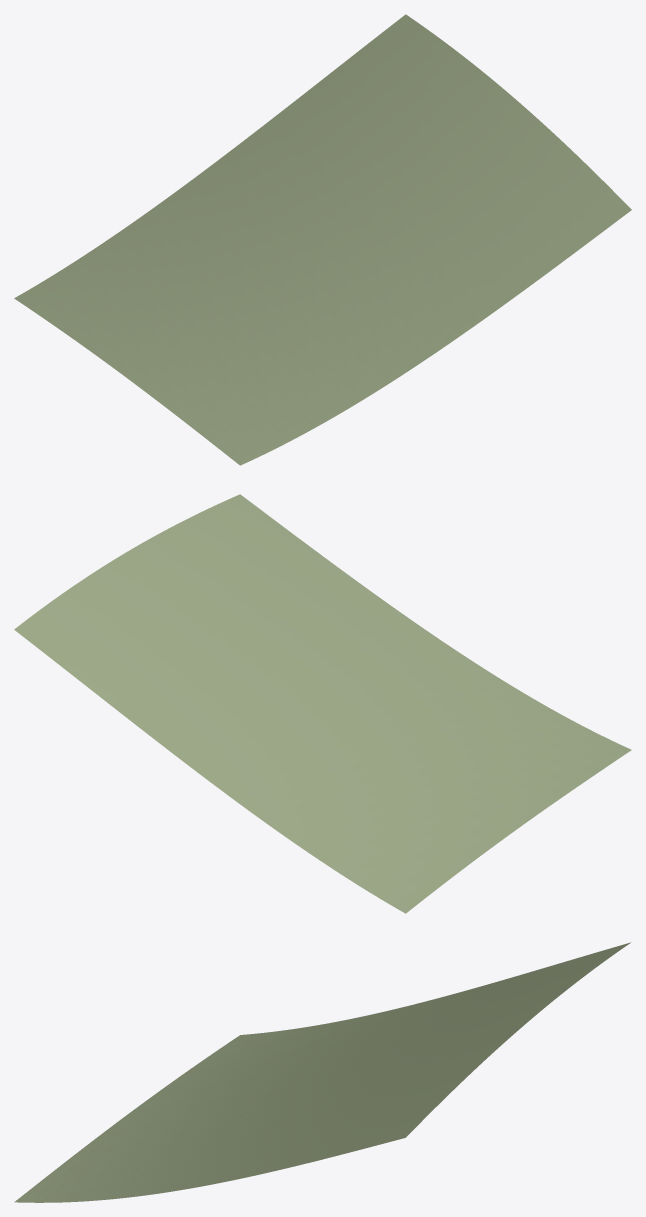
File: expanse-12-6.glb
The picture shows the model from 3 angles, top to bottom: view 1: azimuth 30°, elevation 25°; view 2: azimuth 150°, elevation 25°; view 3: azimuth 330°, elevation 25°; orthographic projection.
Parts seen in each view (by area): view 1: expanse-12-6; view 2: expanse-12-6; view 3: expanse-12-6.
Boxes of the visible parts, <box> form: expanse-12-6: <box>14,14,631,465</box>; expanse-12-6: <box>14,494,631,913</box>; expanse-12-6: <box>14,942,630,1202</box>.
Size of the model in its own units: 256 by 119 by 256.
